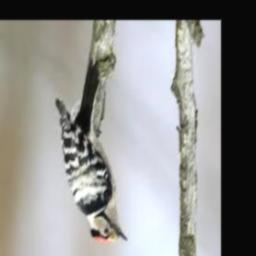Woodpecker: (55, 61, 128, 244)
